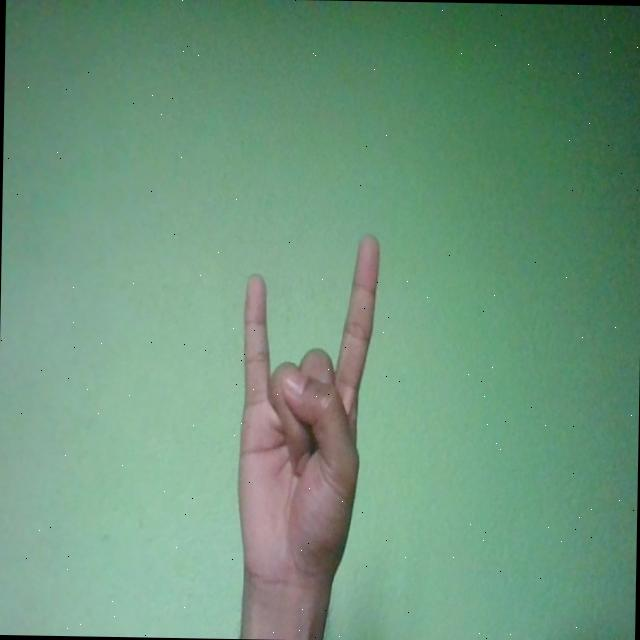open Plam: (235, 230, 381, 596)
